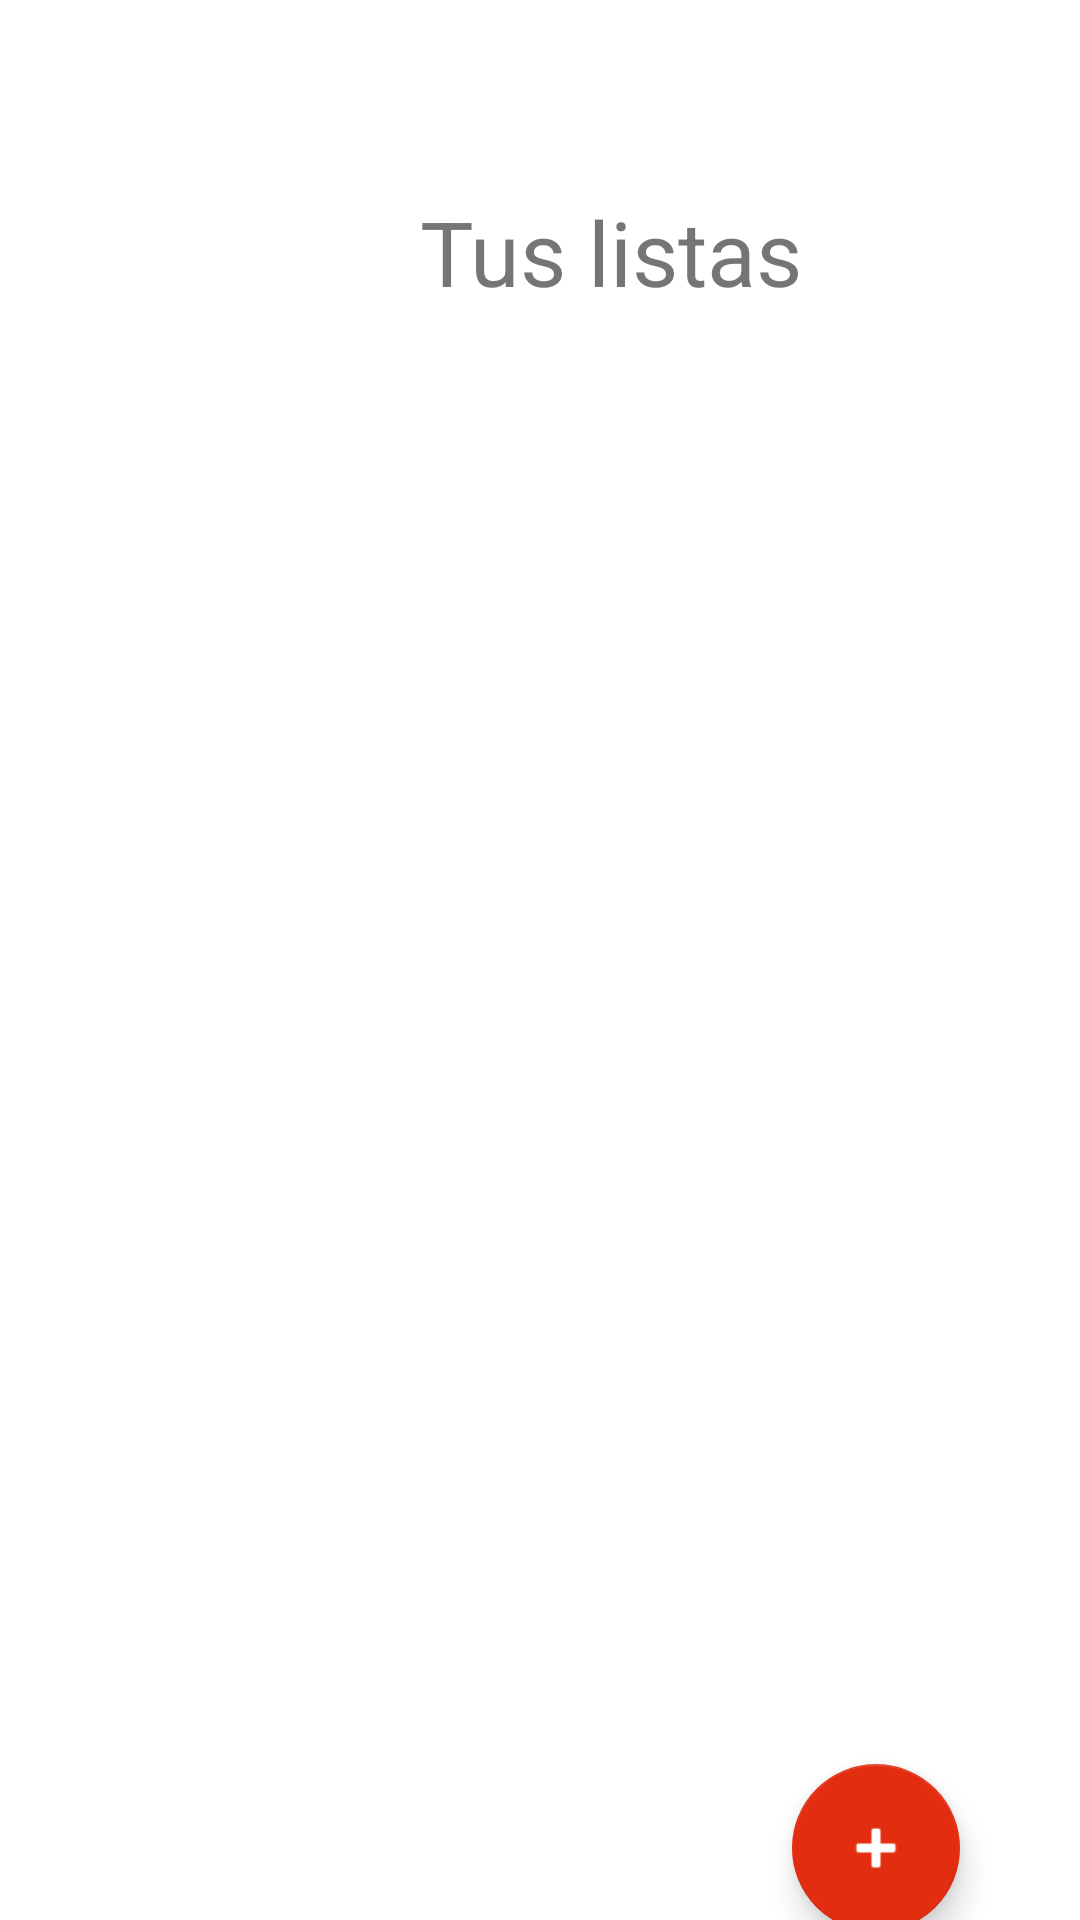

Where icons sit on this 1080×1920 app screen, as box(x1, y1, x2, y2):
add: box(792, 1764, 960, 1920)
